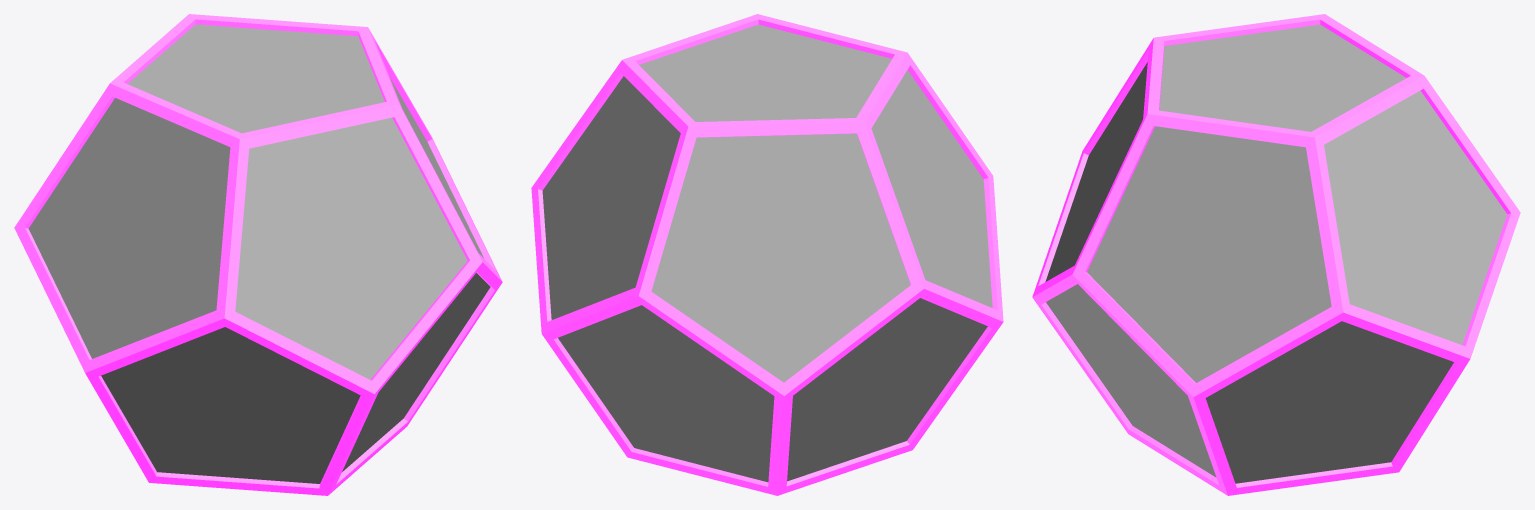
The model's file is SFI0210013.fbx.
The picture shows the model from 3 angles, left to right: view 1: azimuth 30°, elevation 25°; view 2: azimuth 150°, elevation 25°; view 3: azimuth 270°, elevation 25°; orthographic projection. The views are drawn at different scales.
Parts seen in each view (by area): view 1: smSFI0210013; view 2: smSFI0210013; view 3: smSFI0210013.
Boxes of the visible parts, bbox=[...] form: smSFI0210013: bbox=[14, 14, 502, 495]; smSFI0210013: bbox=[531, 14, 1003, 495]; smSFI0210013: bbox=[1032, 14, 1520, 495].
Bounding box in the file's own units: 134 × 114 × 138.
